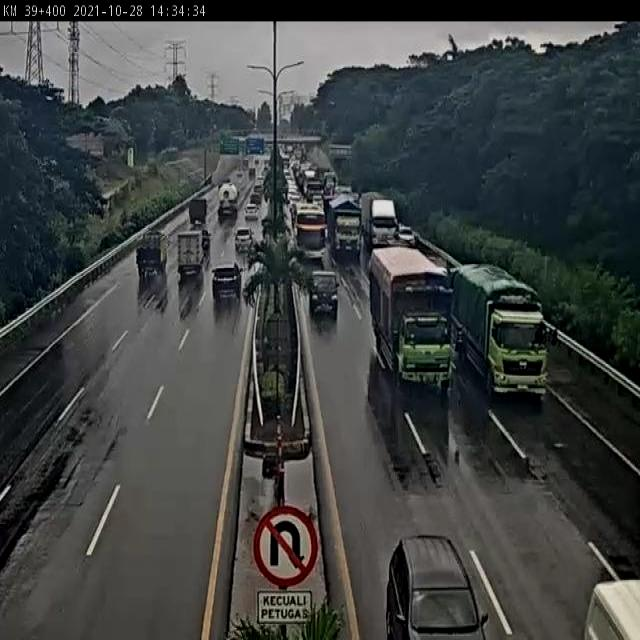Bus: (294, 203, 327, 259)
Car: (384, 534, 489, 640), (308, 270, 340, 320), (211, 260, 242, 298), (234, 229, 253, 250), (244, 203, 259, 221), (288, 190, 300, 204)
Truck: (448, 262, 550, 404), (369, 246, 452, 391), (326, 192, 362, 263), (362, 197, 398, 258), (136, 230, 169, 277), (176, 230, 206, 280), (218, 183, 239, 218)
